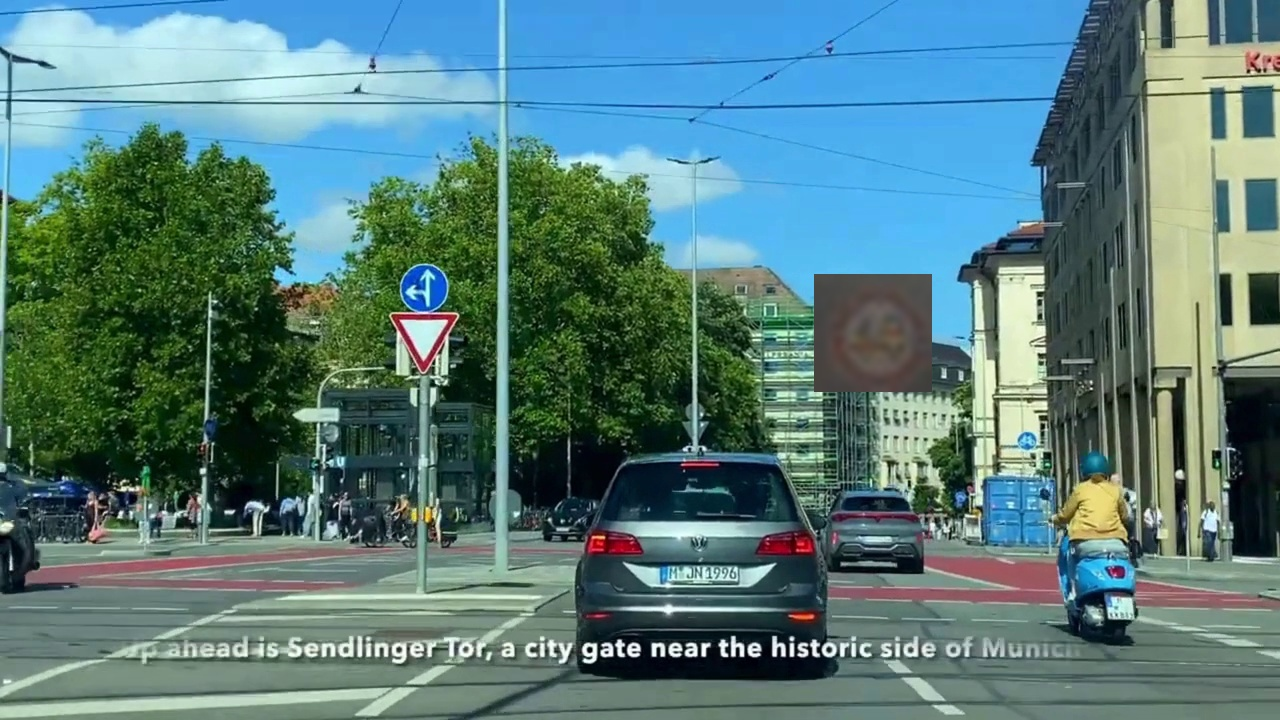Speed 60: (814, 274, 932, 392)
